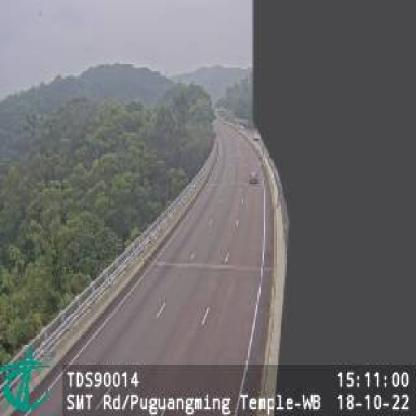Car: (249, 170, 259, 185)
